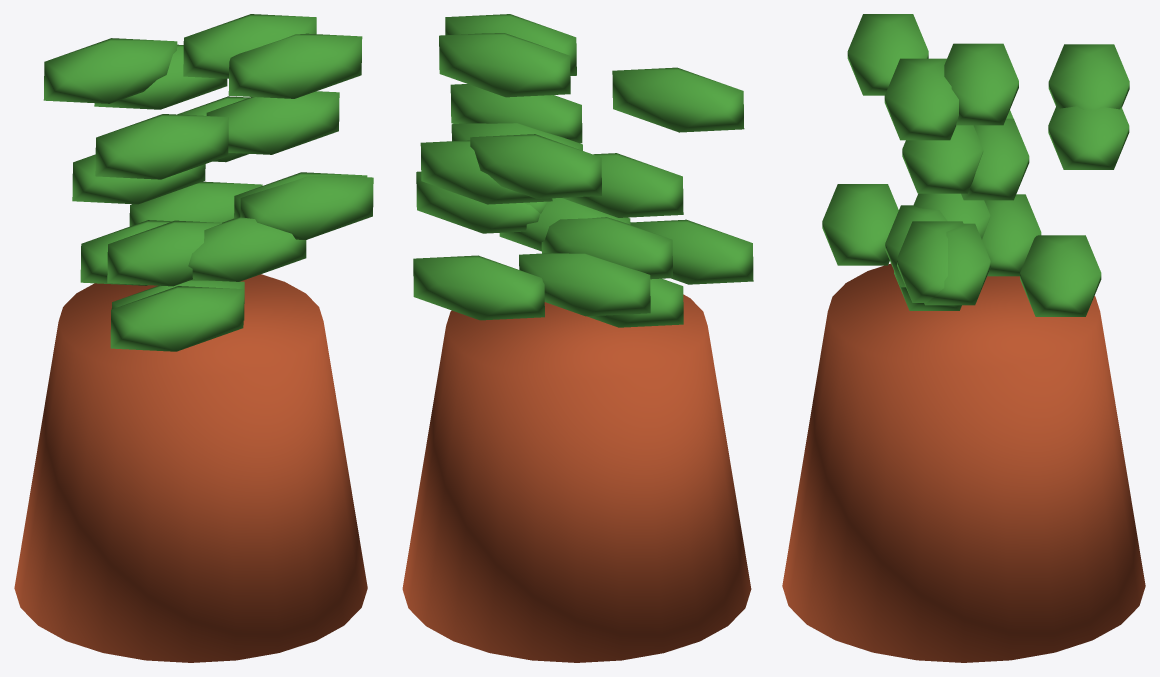
The model's file is basilico.glb.
The picture shows the model from 3 angles, left to right: view 1: azimuth 30°, elevation 25°; view 2: azimuth 150°, elevation 25°; view 3: azimuth 270°, elevation 25°; orthographic projection. The views are drawn at different scales.
Parts seen in each view (by area): view 1: Cone, Icosphere, Icosphere.003, Icosphere.001, Icosphere.006, Icosphere.013, Icosphere.011, Icosphere.009, Icosphere.005, Icosphere.002, Icosphere.007, Icosphere.004 (+5 smaller); view 2: Cone, Icosphere, Icosphere.007, Icosphere.002, Icosphere.006, Icosphere.014, Icosphere.005, Icosphere.003, Icosphere.004, Icosphere.011, Icosphere.012, Icosphere.010 (+4 smaller); view 3: Cone, Icosphere.007, Icosphere.003, Icosphere.001, Icosphere.002, Icosphere.006, Icosphere, Icosphere.012, Icosphere.011, Icosphere.015, Icosphere.013, Icosphere.014 (+3 smaller).
Boxes of the visible parts, x1,y1,x2,y2 form: Cone: (14,274,367,662); Icosphere: (95,114,228,179); Icosphere.003: (110,286,243,351); Icosphere.001: (228,33,362,98); Icosphere.006: (43,38,177,103); Icosphere.013: (240,176,373,239); Icosphere.011: (206,91,339,154); Icosphere.009: (188,217,306,281); Icosphere.005: (107,220,221,286); Icosphere.002: (183,14,316,78); Icosphere.007: (129,181,262,226); Icosphere.004: (72,154,205,204); Cone: (402,294,751,662); Icosphere: (612,67,744,132); Icosphere.007: (413,255,544,320); Icosphere.002: (439,33,570,97); Icosphere.006: (470,134,601,198); Icosphere.014: (519,253,650,316); Icosphere.005: (541,217,672,279); Icosphere.003: (630,219,753,284); Icosphere.004: (562,153,683,217); Icosphere.011: (450,84,582,143); Icosphere.012: (420,140,552,204); Icosphere.010: (416,171,540,233); Cone: (782,263,1145,662); Icosphere.007: (1020,235,1101,316); Icosphere.003: (822,184,898,265); Icosphere.001: (884,58,958,140); Icosphere.002: (944,43,1018,125); Icosphere.006: (1048,44,1129,109); Icosphere: (847,14,928,95); Icosphere.012: (1048,106,1129,169); Icosphere.011: (902,125,983,193); Icosphere.015: (961,118,1029,200); Icosphere.013: (897,221,963,302); Icosphere.014: (982,194,1041,276).
Bounding box in the file's own units: 0.253 × 0.4123 × 0.24.
